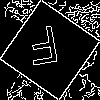F: (25, 25, 63, 75)
